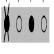correct: (28, 14, 35, 35)
not correct: (4, 3, 10, 42)
